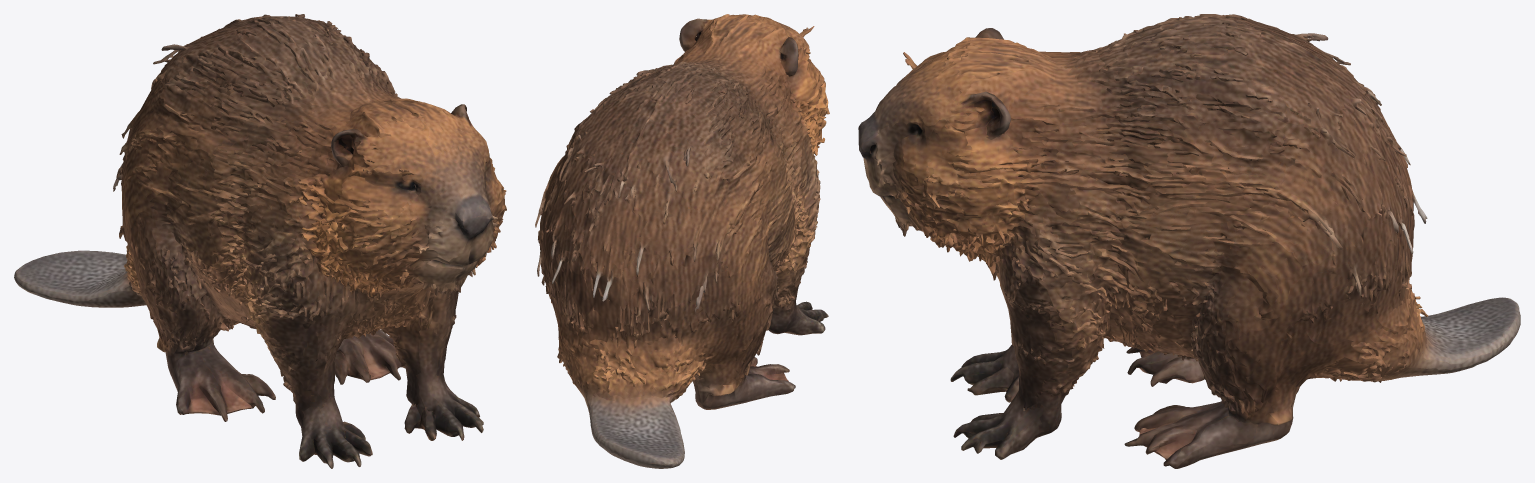
File: eurasian-beaver-v21-lod.glb
The picture shows the model from 3 angles, left to right: view 1: azimuth 30°, elevation 25°; view 2: azimuth 150°, elevation 25°; view 3: azimuth 270°, elevation 25°; orthographic projection. The views are drawn at different scales.
Visible parts, largest first — view 1: geometry_0; view 2: geometry_0; view 3: geometry_0.
Boxes of the visible parts, left/top/right/bottom form: geometry_0: left=14, top=14, right=506, bottom=468; geometry_0: left=535, top=14, right=829, bottom=468; geometry_0: left=858, top=14, right=1520, bottom=468.
Size of the model in its own units: 0.8996 by 1.18 by 1.83.
1 material, 1 textured.
